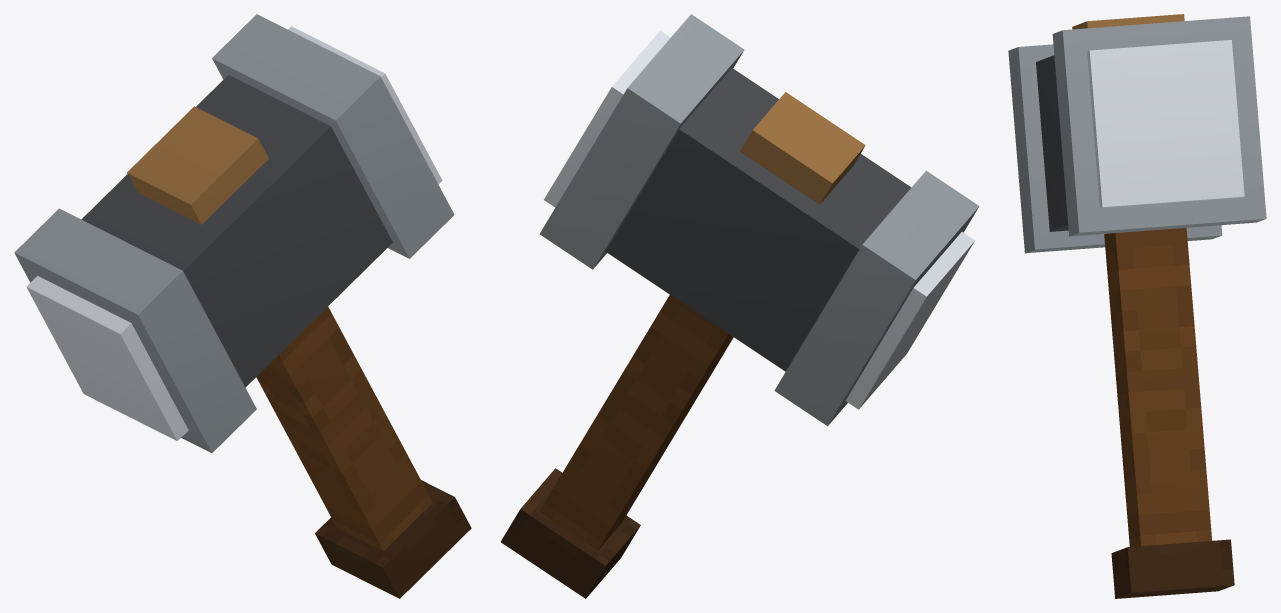
File: item_hammer.glb
3 renders of one model, left to right at view 1: azimuth 30°, elevation 25°; view 2: azimuth 150°, elevation 25°; view 3: azimuth 270°, elevation 25°, orthographic. The views are drawn at different scales.
Parts seen in each view (by area): view 1: item_hammer; view 2: item_hammer; view 3: item_hammer.
Boxes of the visible parts, bbox=[...] form: item_hammer: bbox=[14, 14, 471, 598]; item_hammer: bbox=[500, 14, 979, 598]; item_hammer: bbox=[1008, 14, 1266, 598].
Bounding box in the file's own units: 0.7387 × 0.9192 × 0.3937.
Materials: 6 (2 with a texture image).
